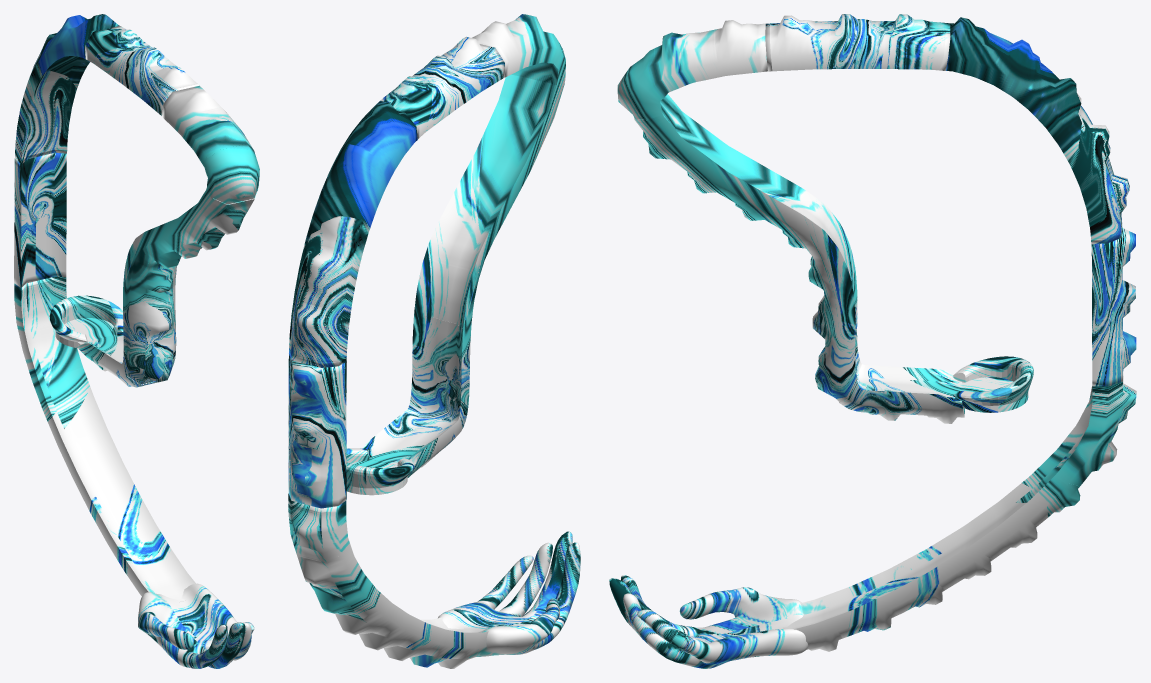
The model's file is 03_spine of snake.fbx.
The picture shows the model from 3 angles, left to right: view 1: azimuth 30°, elevation 25°; view 2: azimuth 150°, elevation 25°; view 3: azimuth 270°, elevation 25°; orthographic projection. The views are drawn at different scales.
Visible parts, largest first — view 1: Plane.003, Plane.005, Plane.004; view 2: Plane.003, Plane.005, Plane.004; view 3: Plane.003, Plane.004, Plane.005.
Part boxes in pixels (bbox=[...]): Plane.003: bbox=[14, 14, 259, 668]; Plane.005: bbox=[14, 153, 66, 287]; Plane.004: bbox=[85, 26, 201, 115]; Plane.003: bbox=[288, 14, 580, 668]; Plane.005: bbox=[288, 354, 346, 508]; Plane.004: bbox=[371, 36, 504, 138]; Plane.003: bbox=[609, 17, 1136, 668]; Plane.004: bbox=[765, 14, 950, 71]; Plane.005: bbox=[1091, 223, 1136, 386].
Size of the model in its own units: 3.94 by 24 by 17.68.
